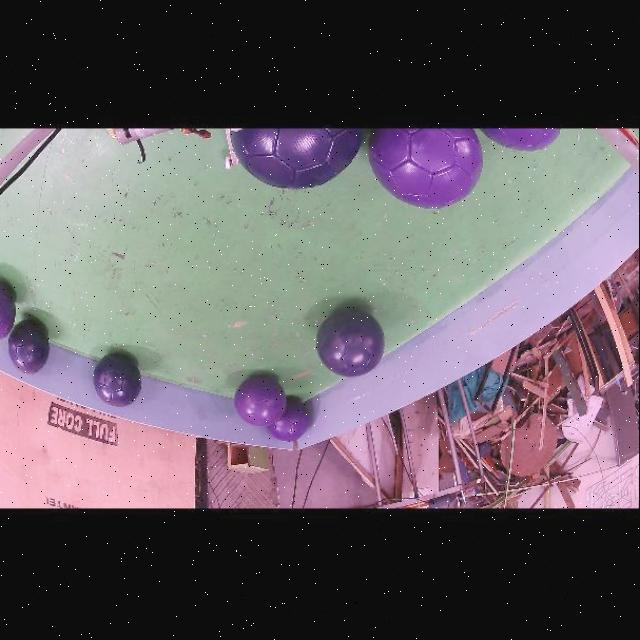B: (231, 129, 363, 190), (317, 310, 385, 379), (93, 355, 142, 408), (8, 319, 49, 375)
P: (369, 129, 484, 210), (235, 376, 288, 427), (482, 129, 561, 152), (268, 401, 310, 442), (0, 282, 16, 341)
